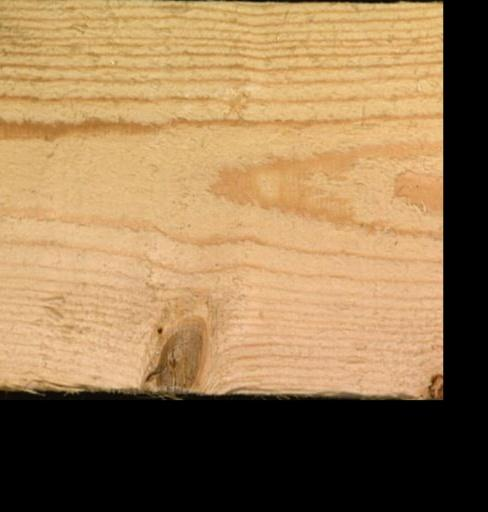edge_knot: (156, 318, 208, 392), (427, 369, 441, 399)
